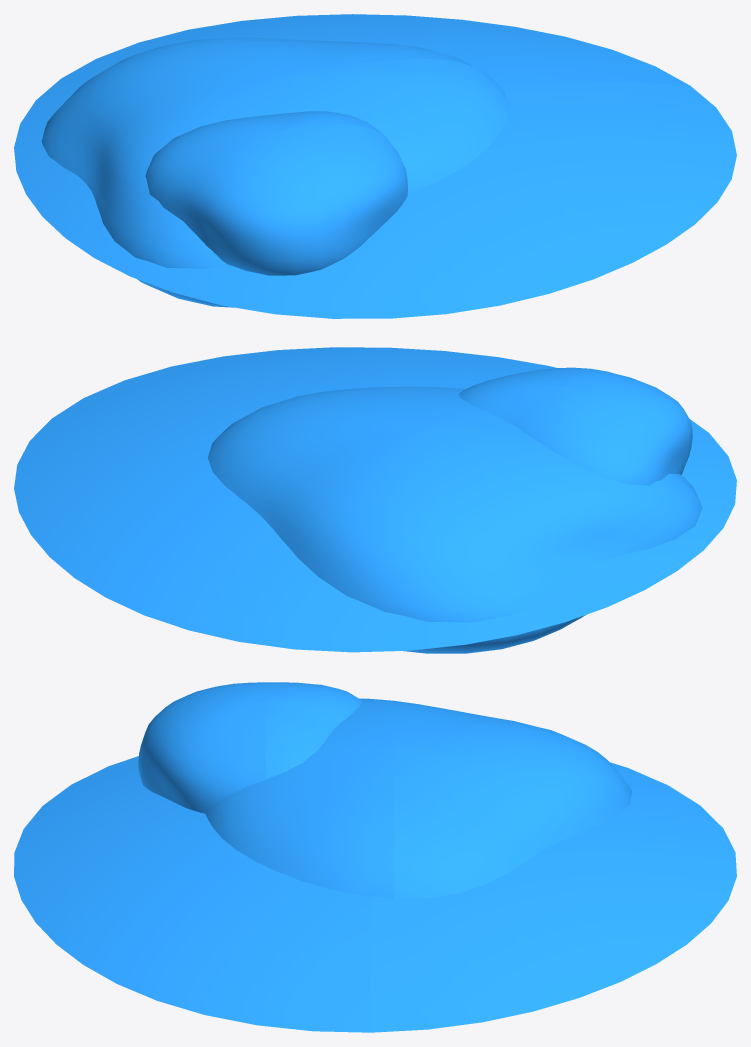
Rendered from LovenseTipJar_Cyan.dae.
The picture shows the model from 3 angles, top to bottom: view 1: azimuth 30°, elevation 25°; view 2: azimuth 150°, elevation 25°; view 3: azimuth 270°, elevation 25°; orthographic projection.
Visible parts, largest first — view 1: Cyan; view 2: Cyan; view 3: Cyan.
Part boxes in pixels (x1=…): Cyan: x1=14, y1=14, x2=736, y2=318; Cyan: x1=14, y1=347, x2=736, y2=653; Cyan: x1=14, y1=682, x2=736, y2=1032.
Bounding box in the file's own units: 0.124 × 0.124 × 0.034.
